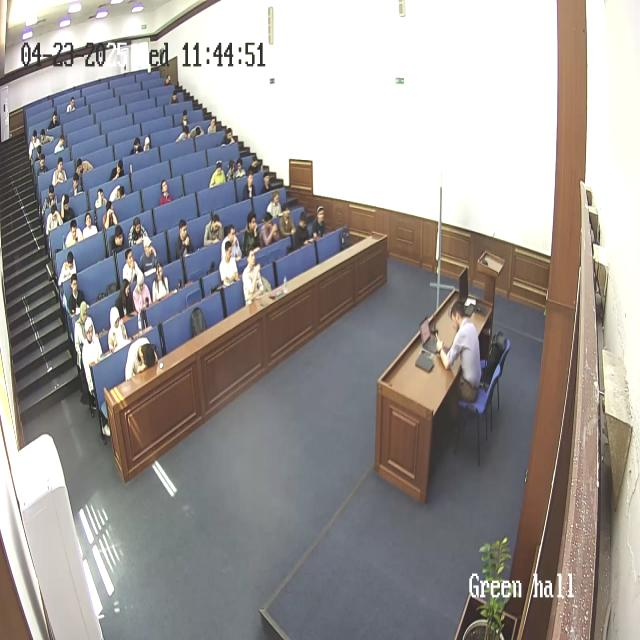person: (436, 299, 482, 405), (80, 315, 104, 401), (74, 300, 95, 378), (124, 337, 158, 380), (241, 249, 267, 305), (107, 305, 129, 353), (66, 273, 88, 321), (57, 250, 79, 298), (219, 239, 240, 289), (115, 278, 137, 324), (131, 270, 151, 316), (121, 247, 142, 289), (242, 212, 262, 255), (174, 218, 194, 260), (138, 236, 158, 276), (293, 210, 313, 248), (222, 225, 242, 263), (151, 261, 169, 303), (45, 196, 63, 238), (203, 212, 224, 247), (259, 212, 279, 248), (64, 215, 84, 249), (278, 204, 296, 240), (110, 223, 128, 258), (312, 203, 328, 241), (128, 216, 147, 248), (41, 184, 57, 220), (103, 199, 119, 232), (60, 192, 76, 225), (82, 210, 99, 240), (266, 190, 283, 220), (208, 161, 226, 188), (53, 156, 67, 186), (244, 171, 258, 200), (70, 168, 84, 197), (94, 187, 108, 215), (110, 180, 126, 204), (110, 158, 126, 182), (159, 178, 173, 205), (76, 152, 90, 178), (48, 108, 62, 131), (40, 125, 54, 147), (246, 156, 262, 175), (36, 157, 50, 178), (131, 134, 143, 158), (176, 127, 192, 145), (226, 158, 238, 182), (54, 132, 67, 154), (206, 115, 218, 137), (28, 128, 40, 150), (263, 169, 272, 197), (179, 110, 192, 128), (223, 129, 235, 148), (190, 127, 205, 140), (68, 96, 78, 114), (237, 158, 246, 176), (144, 132, 152, 152), (164, 71, 173, 86), (36, 145, 43, 161), (170, 90, 178, 102)
